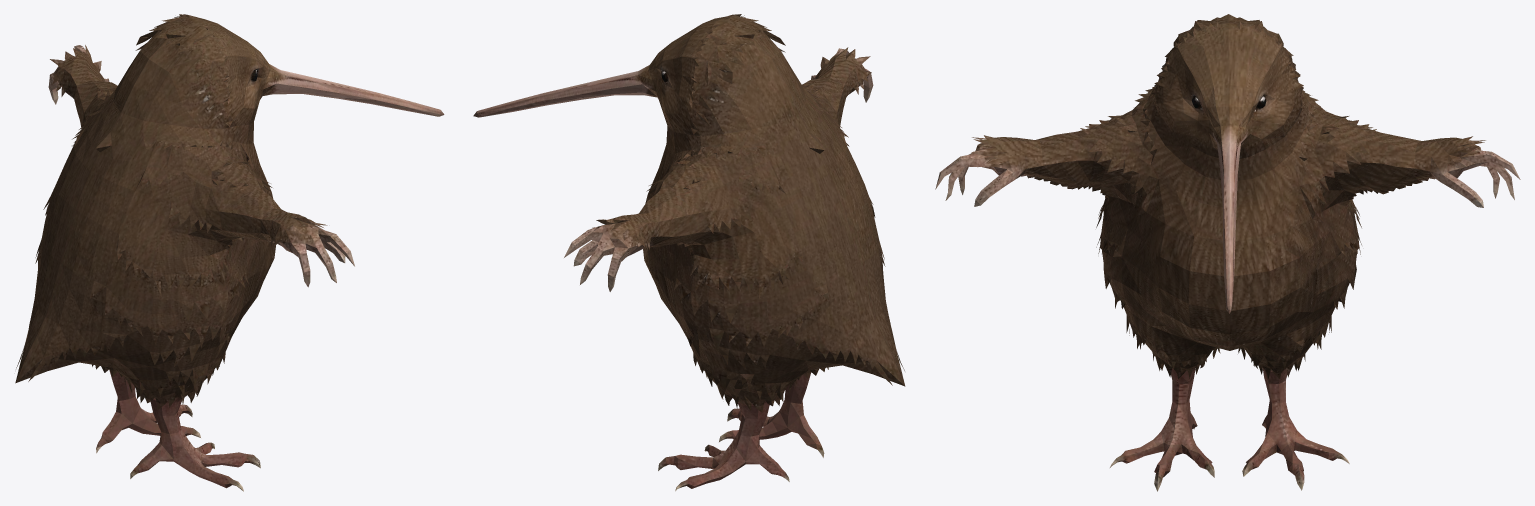
Rendered from bird-male.glb.
3 views of the same model, side by side, from view 1: azimuth 30°, elevation 25°; view 2: azimuth 150°, elevation 25°; view 3: azimuth 270°, elevation 25° (orthographic). The views are drawn at different scales.
Visible parts, largest first — view 1: tripo_node_e3f2c887-8a61-4874-a3f0-c1ca85b3eefd; view 2: tripo_node_e3f2c887-8a61-4874-a3f0-c1ca85b3eefd; view 3: tripo_node_e3f2c887-8a61-4874-a3f0-c1ca85b3eefd.
Part boxes in pixels (bbox=[...]): tripo_node_e3f2c887-8a61-4874-a3f0-c1ca85b3eefd: bbox=[15, 14, 444, 491]; tripo_node_e3f2c887-8a61-4874-a3f0-c1ca85b3eefd: bbox=[473, 14, 905, 491]; tripo_node_e3f2c887-8a61-4874-a3f0-c1ca85b3eefd: bbox=[935, 14, 1520, 491].
Size of the model in its own units: 0.8887 by 0.8535 by 0.998.
Materials: 1 (1 with a texture image).
